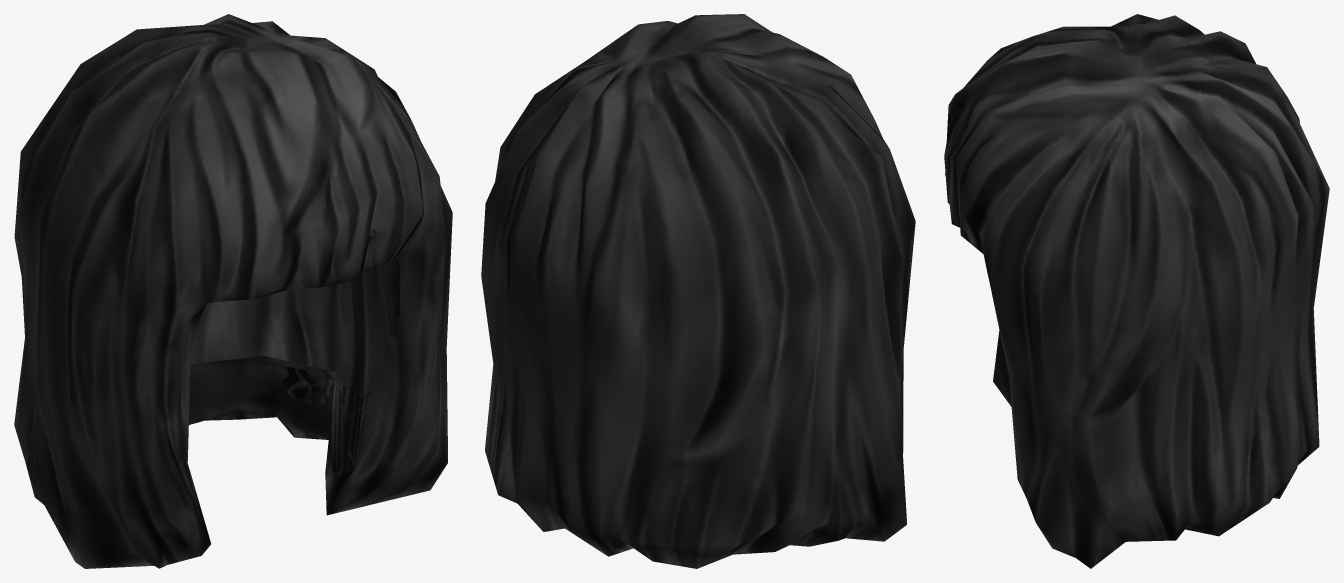
File: AF_M_hair_G_24.fbx
The picture shows the model from 3 angles, left to right: view 1: azimuth 30°, elevation 25°; view 2: azimuth 150°, elevation 25°; view 3: azimuth 270°, elevation 25°; orthographic projection. The views are drawn at different scales.
Visible parts, largest first — view 1: AF_M_hair_G_24; view 2: AF_M_hair_G_24; view 3: AF_M_hair_G_24.
Part boxes in pixels (x1=…): AF_M_hair_G_24: x1=14, y1=14, x2=452, y2=568; AF_M_hair_G_24: x1=481, y1=14, x2=915, y2=568; AF_M_hair_G_24: x1=944, y1=14, x2=1329, y2=568.
Bounding box in the file's own units: 794 × 945 × 736.
